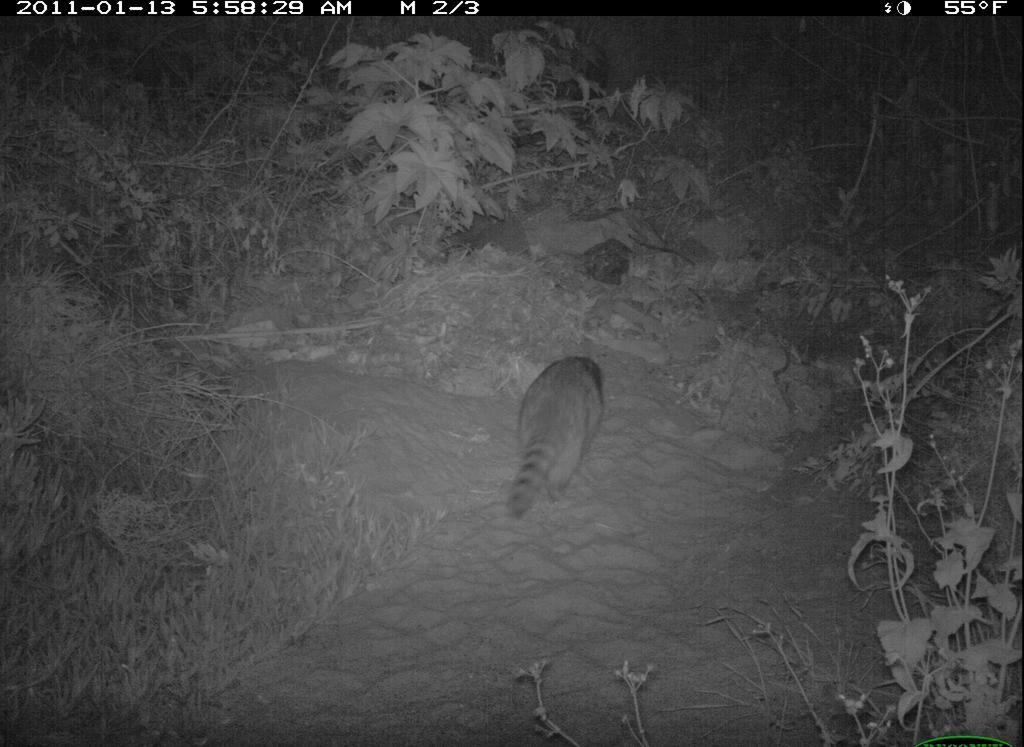raccoon: (492, 326, 624, 529)
